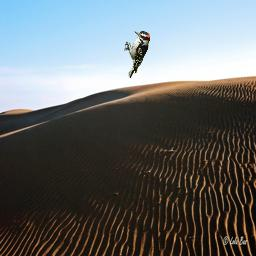Woodpecker: (124, 30, 150, 78)
